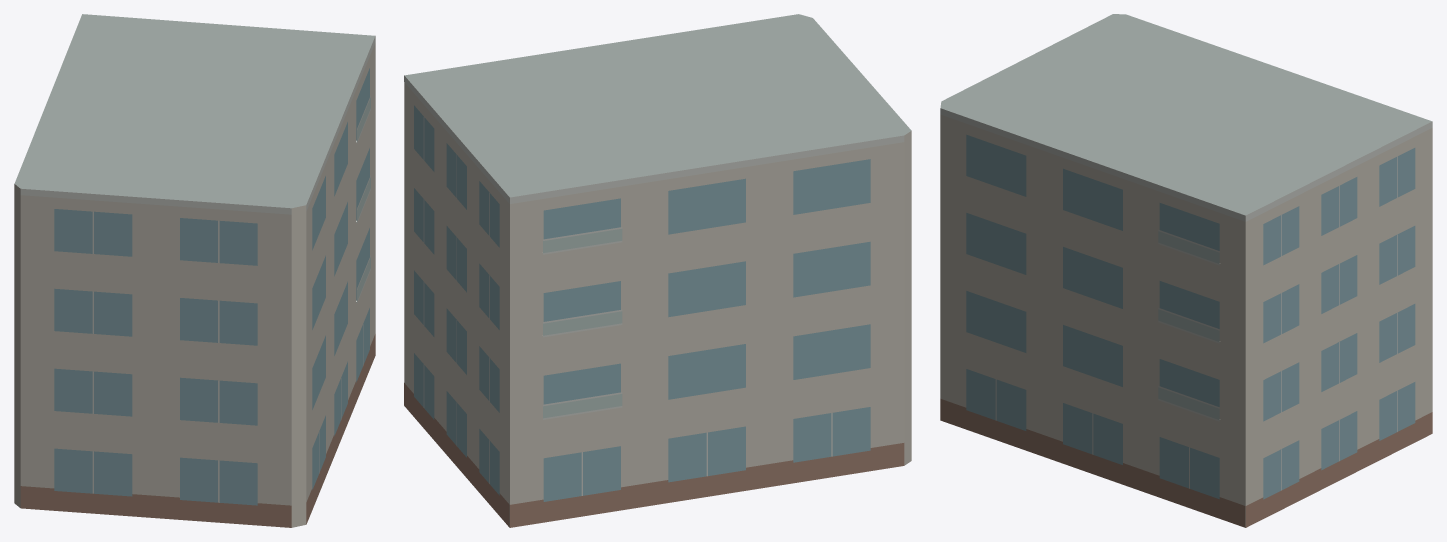
Rendered from survey-upis-32890465.glb.
3 renders of one model, left to right at view 1: azimuth 30°, elevation 25°; view 2: azimuth 150°, elevation 25°; view 3: azimuth 270°, elevation 25°, orthographic. The views are drawn at different scales.
Parts seen in each view (by area): view 1: survey-upis-32890465.tmp; view 2: survey-upis-32890465.tmp; view 3: survey-upis-32890465.tmp.
Part boxes in pixels (box(x1,y1,x2,y2)): survey-upis-32890465.tmp: box(14, 14, 375, 527); survey-upis-32890465.tmp: box(404, 14, 911, 527); survey-upis-32890465.tmp: box(940, 14, 1432, 527).
Size of the model in its own units: 16.76 by 12.1 by 17.29.
